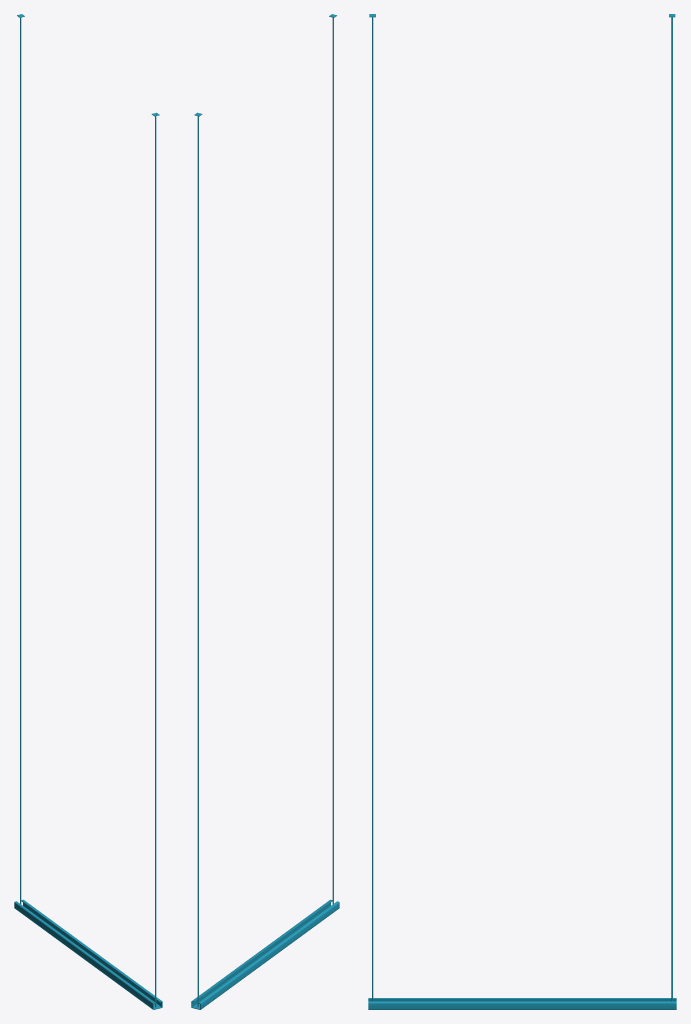
File: SM_Duct_Support_Large.FBX
3 views of the same model, side by side, from view 1: azimuth 30°, elevation 25°; view 2: azimuth 150°, elevation 25°; view 3: azimuth 270°, elevation 25° (orthographic). The views are drawn at different scales.
Parts seen in each view (by area): view 1: Duct_Support_Large_LOD0; view 2: Duct_Support_Large_LOD0; view 3: Duct_Support_Large_LOD0.
Boxes of the visible parts, box(x1,y1,x2,y2) form: Duct_Support_Large_LOD0: box(14, 14, 162, 1009); Duct_Support_Large_LOD0: box(191, 14, 339, 1009); Duct_Support_Large_LOD0: box(368, 14, 676, 1009).
Size of what is drawn, in the model's own units: 0.035 by 3.13 by 0.8797.
